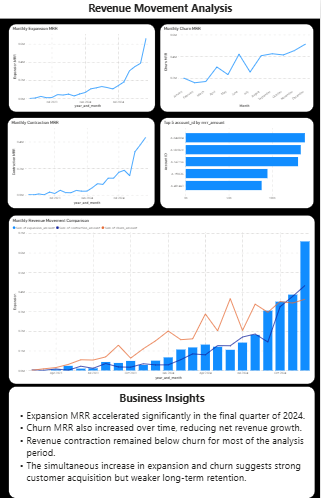

Layout of this report page (visuals, bound fields, positions):
{"tool":"powerbi","page":{"name":"Revenue Movement Analysis","canvas":[1280,2084],"ordinal":1},"visuals":[{"type":"lineChart","title":"Monthly Expansion MRR","fields":{"Category":["monthly_expansion.year_and_month"],"Y":["Sum(monthly_expansion.expansion_amount)"]},"box":[35.7,101.8,585.7,351.8],"z":0},{"type":"lineChart","title":"Monthly Contraction MRR","fields":{"Category":["monthly_contraction.year_and_month"],"Y":["Sum(monthly_contraction.contraction_amount)"]},"box":[32.1,475,589.3,362.5],"z":1000},{"type":"lineChart","title":"Monthly Churn MRR","fields":{"Category":["monthly_churn.year_and_month.Variation.Date Hierarchy.Month"],"Y":["Sum(monthly_churn.churn_amount)"]},"box":[639.3,101.8,614.3,351.8],"z":2000},{"type":"lineClusteredColumnComboChart","title":"Monthly Revenue Movement Comparison","fields":{"Category":["DateTable.year_and_month"],"Y":["Sum(monthly_expansion.expansion_amount)"],"Y2":["Sum(monthly_contraction.contraction_amount)","Sum(monthly_churn.churn_amount)"]},"box":[32.5,862.5,1225,675],"z":3000},{"type":"clusteredBarChart","title":"Top 5 account_id by mrr_amount","fields":{"Y":["Sum(final_mrr_table.mrr_amount)"],"Category":["final_mrr_table.account_id"]},"box":[640,475,615,362.5],"z":4000},{"type":"textbox","box":[0,0,1280.4,78.6],"z":4001},{"type":"textbox","box":[32.5,1547.5,1225,447.5],"z":4002}]}

Visuals, with their boxes on the page's 1280x2084 design canvas (x1, y1, x2, y2). These are canvas units, not pixel positions in the 321x498 screenshot, which may show the page scaled, cropped or inside an application window:
"Monthly Expansion MRR" lineChart: crop(36, 102, 621, 454)
"Monthly Contraction MRR" lineChart: crop(32, 475, 621, 838)
"Monthly Churn MRR" lineChart: crop(639, 102, 1254, 454)
"Monthly Revenue Movement Comparison" lineClusteredColumnComboChart: crop(32, 862, 1258, 1538)
"Top 5 account_id by mrr_amount" clusteredBarChart: crop(640, 475, 1255, 838)
textbox: crop(0, 0, 1280, 79)
textbox: crop(32, 1548, 1258, 1995)
